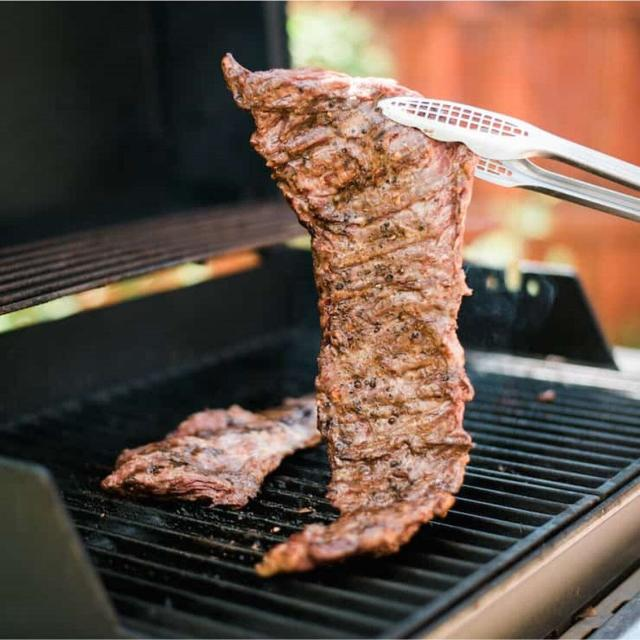carne de res: (206, 50, 496, 588)
